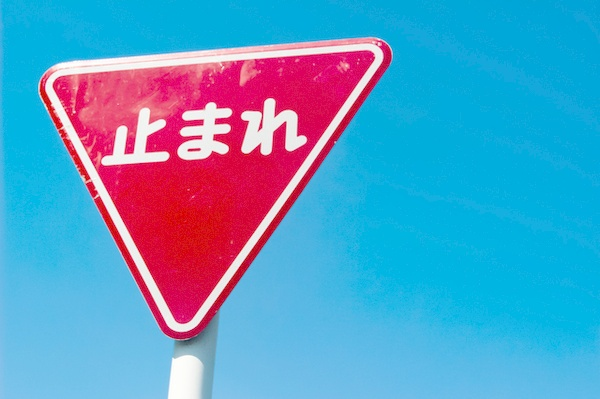Regulatory_sign_triangle: (17, 24, 404, 362)
